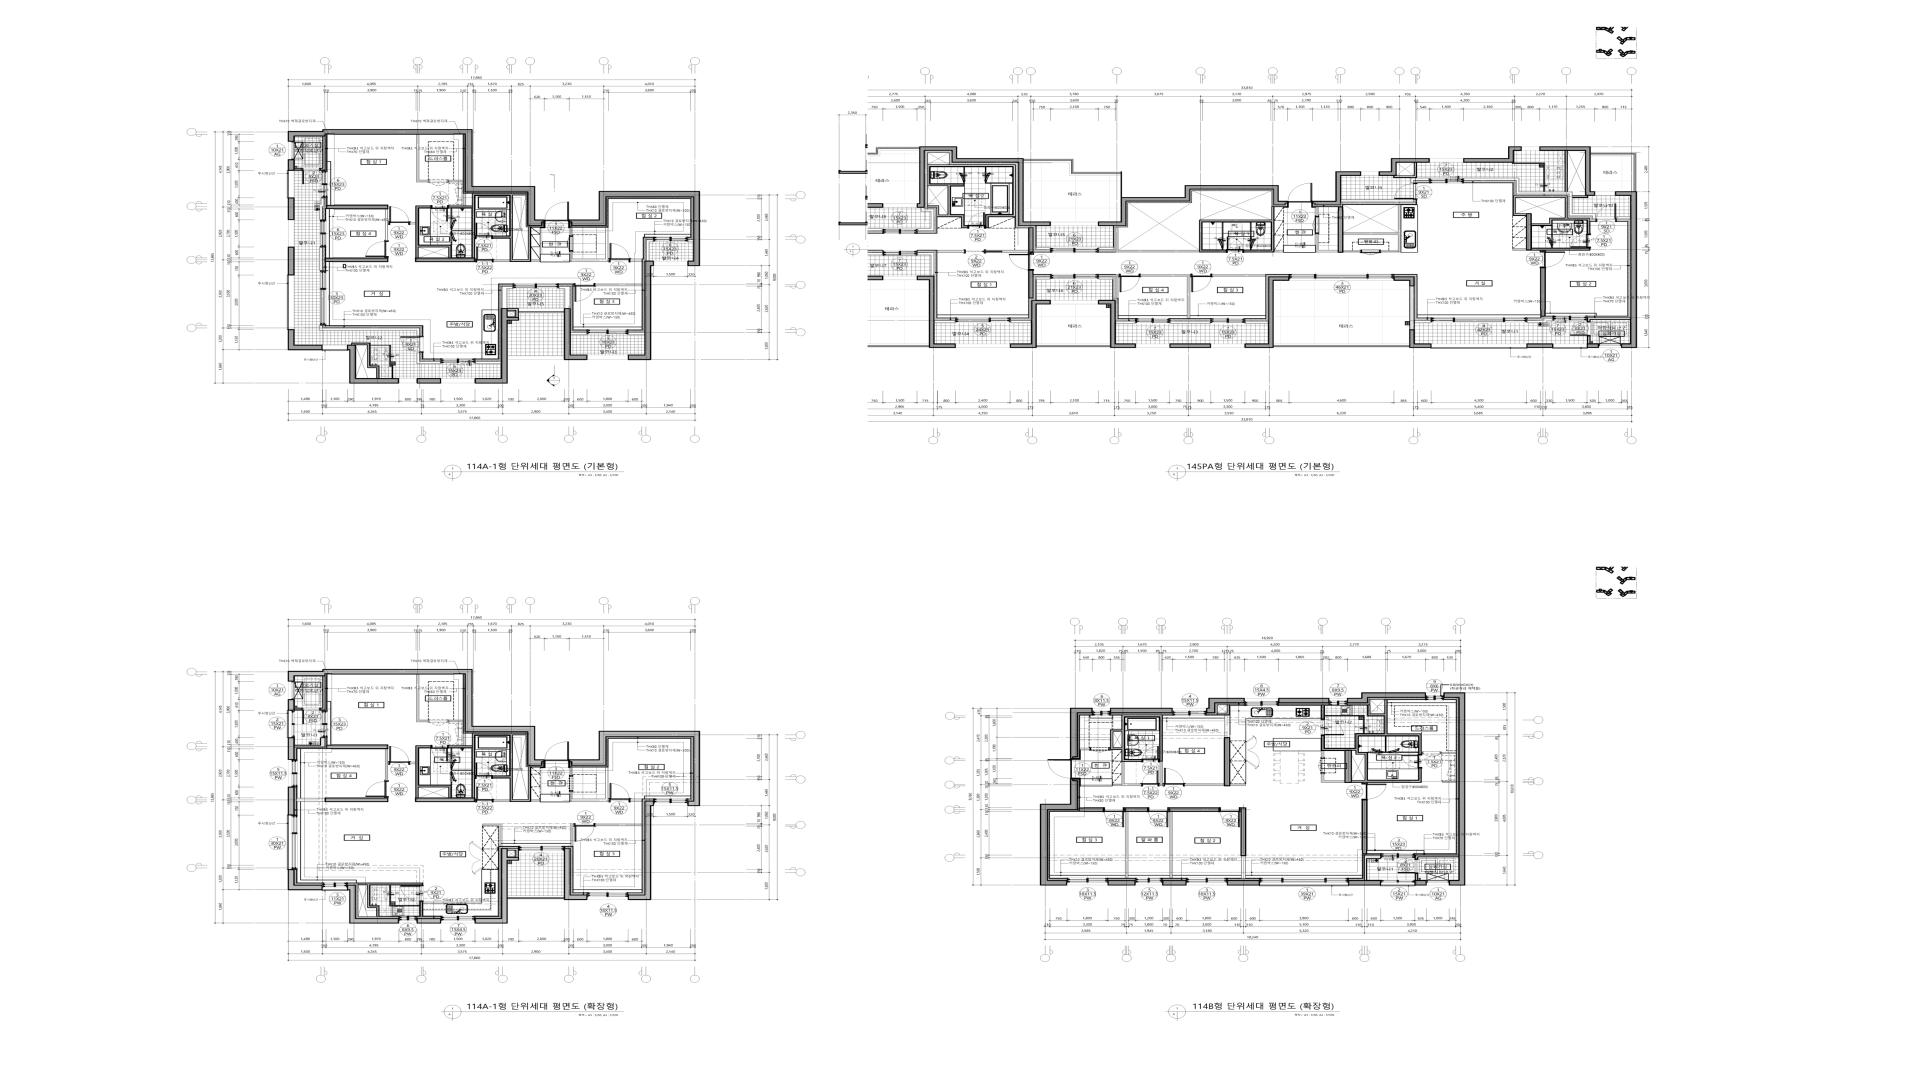door: (1047, 758, 1081, 779), (543, 742, 570, 769), (543, 203, 570, 228), (1288, 183, 1312, 208), (1147, 807, 1170, 828), (1540, 251, 1565, 269), (1361, 783, 1387, 800), (608, 783, 630, 803), (1102, 807, 1125, 827), (1218, 807, 1241, 827), (608, 243, 630, 262), (1009, 253, 1034, 270), (1163, 767, 1184, 787), (1596, 203, 1617, 223), (388, 207, 410, 225), (1118, 274, 1141, 293), (365, 781, 389, 798), (574, 823, 595, 841), (388, 746, 409, 765), (574, 284, 595, 302), (1191, 274, 1212, 293), (1321, 719, 1344, 736), (400, 886, 423, 902), (400, 336, 423, 352), (365, 241, 389, 257), (1394, 183, 1418, 199), (1398, 858, 1419, 874), (302, 167, 320, 185), (475, 762, 493, 779), (1402, 754, 1423, 769), (1571, 233, 1592, 248), (431, 745, 448, 762), (1226, 236, 1244, 253), (968, 212, 985, 229), (475, 787, 493, 803), (302, 708, 320, 724), (475, 247, 493, 262), (475, 223, 493, 239), (1571, 322, 1590, 336), (1142, 746, 1159, 762), (1142, 771, 1159, 787), (431, 206, 448, 222), (429, 179, 448, 186), (1361, 249, 1381, 256), (1091, 748, 1110, 753), (429, 720, 448, 725), (1423, 752, 1441, 757), (1319, 758, 1325, 773), (964, 249, 985, 253)
wall: (287, 669, 543, 766), (287, 129, 543, 225), (916, 146, 1051, 227), (570, 731, 700, 806), (570, 191, 700, 266), (1464, 152, 1596, 219), (1321, 699, 1422, 783), (1098, 185, 1288, 227), (1116, 207, 1283, 253), (448, 733, 539, 802), (448, 194, 539, 262), (927, 165, 1015, 228), (1444, 692, 1465, 886), (1040, 779, 1077, 886), (1023, 158, 1122, 198), (1110, 715, 1163, 786), (1615, 191, 1638, 348), (475, 848, 520, 924), (475, 309, 520, 384), (1245, 277, 1290, 348), (1513, 195, 1590, 233), (916, 276, 956, 348), (1539, 146, 1596, 195), (1344, 204, 1402, 252), (628, 800, 654, 901), (628, 261, 654, 360), (409, 745, 452, 798), (1141, 274, 1191, 319), (359, 882, 423, 916), (410, 206, 452, 257), (347, 885, 400, 924), (857, 203, 884, 281), (347, 345, 400, 384), (1010, 299, 1051, 348), (1098, 299, 1137, 348), (1592, 152, 1636, 191), (1313, 171, 1361, 206), (570, 767, 608, 802), (570, 228, 608, 262), (564, 848, 588, 901), (1069, 708, 1093, 758), (564, 309, 587, 360), (319, 326, 419, 336), (351, 343, 380, 378), (1464, 146, 1522, 164), (1379, 158, 1431, 177), (1410, 286, 1431, 330), (1348, 692, 1425, 703), (287, 869, 322, 890), (287, 330, 322, 351), (1394, 164, 1429, 183), (853, 146, 919, 156), (1207, 698, 1245, 713), (417, 675, 429, 723), (417, 135, 429, 182), (1274, 344, 1410, 348), (1217, 704, 1230, 737), (1364, 855, 1381, 880), (483, 824, 501, 847), (1410, 330, 1432, 348), (1316, 233, 1338, 252), (918, 252, 934, 276), (918, 208, 934, 231), (1110, 708, 1172, 713), (326, 257, 388, 262), (1224, 737, 1230, 786), (294, 737, 324, 748), (327, 204, 388, 210), (415, 257, 475, 262), (1337, 207, 1344, 253), (853, 344, 928, 348), (1036, 344, 1110, 348), (1362, 800, 1367, 855), (1278, 698, 1329, 703), (501, 286, 513, 309), (1125, 812, 1129, 878), (1241, 807, 1246, 856), (1170, 807, 1218, 812), (324, 798, 388, 802), (417, 353, 440, 364), (1540, 269, 1545, 316), (326, 745, 388, 749), (1526, 214, 1532, 251), (559, 286, 570, 309), (415, 798, 475, 802), (508, 895, 563, 899), (1321, 774, 1345, 783), (1348, 880, 1381, 886), (1345, 750, 1352, 783), (1394, 277, 1415, 286), (1341, 199, 1414, 202), (287, 247, 294, 276), (1108, 880, 1135, 886), (287, 787, 294, 815), (320, 676, 326, 711), (1228, 881, 1261, 886), (1170, 812, 1172, 878), (320, 137, 326, 170), (1415, 855, 1458, 858), (1588, 318, 1630, 322), (1170, 344, 1211, 348), (1532, 248, 1590, 251), (287, 737, 294, 760), (287, 198, 294, 220), (1029, 270, 1034, 298), (1212, 274, 1266, 277), (646, 240, 653, 261), (1162, 881, 1187, 886), (417, 918, 442, 923), (1029, 227, 1034, 252), (417, 378, 442, 384), (1079, 807, 1102, 812), (595, 284, 642, 286), (1125, 807, 1147, 812), (1241, 856, 1246, 878), (319, 198, 324, 220), (985, 251, 1029, 253), (297, 798, 324, 802), (1170, 322, 1211, 324), (1184, 783, 1224, 786), (1527, 319, 1553, 323), (1527, 344, 1553, 348), (508, 848, 518, 857), (508, 309, 518, 318), (319, 247, 323, 270), (385, 210, 388, 241), (385, 749, 388, 781), (1415, 880, 1427, 886), (287, 699, 294, 711), (287, 160, 294, 171), (864, 252, 882, 256), (938, 251, 964, 253), (475, 361, 501, 364), (595, 824, 642, 825), (1116, 274, 1118, 298), (1245, 322, 1269, 324), (571, 824, 574, 847), (419, 902, 423, 916), (1321, 704, 1325, 719), (1010, 320, 1031, 323), (1116, 322, 1135, 324), (935, 320, 955, 323), (1586, 344, 1600, 348), (864, 228, 882, 231), (630, 258, 642, 262), (1098, 248, 1114, 251), (571, 332, 587, 335), (448, 720, 463, 723), (1441, 752, 1456, 754), (1098, 277, 1113, 280), (1035, 277, 1050, 280), (1035, 248, 1050, 251), (1443, 781, 1456, 783), (1617, 216, 1630, 219), (630, 799, 642, 802), (1080, 748, 1089, 750), (1316, 207, 1319, 216), (1344, 251, 1361, 252), (294, 167, 302, 170), (570, 767, 572, 775), (1415, 874, 1419, 880), (1230, 785, 1246, 786), (1588, 336, 1590, 344), (570, 228, 572, 236), (448, 181, 463, 182), (295, 708, 302, 711), (1513, 249, 1526, 251), (688, 240, 694, 243)
window: (1261, 878, 1348, 886), (1290, 274, 1394, 281), (286, 815, 298, 869), (286, 276, 294, 330), (1431, 318, 1527, 322), (1432, 344, 1527, 348), (518, 845, 564, 853), (320, 270, 326, 326), (1172, 708, 1207, 716), (1067, 878, 1108, 885), (587, 893, 628, 899), (1187, 878, 1226, 885), (654, 798, 687, 806), (1050, 248, 1098, 253), (1050, 274, 1098, 280), (289, 760, 298, 787), (286, 711, 295, 737), (513, 284, 559, 289), (518, 309, 563, 314), (1381, 880, 1415, 886), (1553, 315, 1588, 322), (323, 882, 347, 891), (955, 318, 1010, 322), (508, 356, 563, 360), (1245, 699, 1278, 705), (442, 916, 475, 923), (587, 330, 628, 335), (587, 355, 628, 360), (956, 344, 1010, 348), (286, 171, 294, 198), (1051, 301, 1098, 305), (1051, 222, 1098, 225), (882, 251, 918, 256), (882, 228, 918, 233), (1381, 853, 1415, 858), (440, 359, 475, 364), (1429, 178, 1464, 183), (1211, 318, 1245, 323), (1135, 318, 1170, 323), (1135, 878, 1162, 885), (320, 711, 327, 737), (1553, 344, 1586, 349), (442, 378, 475, 384), (654, 261, 687, 266), (653, 237, 688, 241), (322, 171, 327, 198), (320, 220, 326, 247), (289, 220, 294, 247), (1093, 708, 1110, 716), (1427, 692, 1444, 700), (322, 345, 347, 351), (1431, 158, 1464, 162), (1212, 344, 1245, 348), (1137, 344, 1170, 348), (884, 276, 916, 280), (1329, 699, 1348, 705), (1427, 880, 1449, 885), (400, 916, 417, 923), (1600, 343, 1621, 348), (289, 682, 294, 699), (289, 142, 294, 160), (400, 378, 417, 384), (884, 204, 916, 207), (1596, 191, 1615, 195), (1522, 146, 1539, 150), (1361, 171, 1378, 175)
